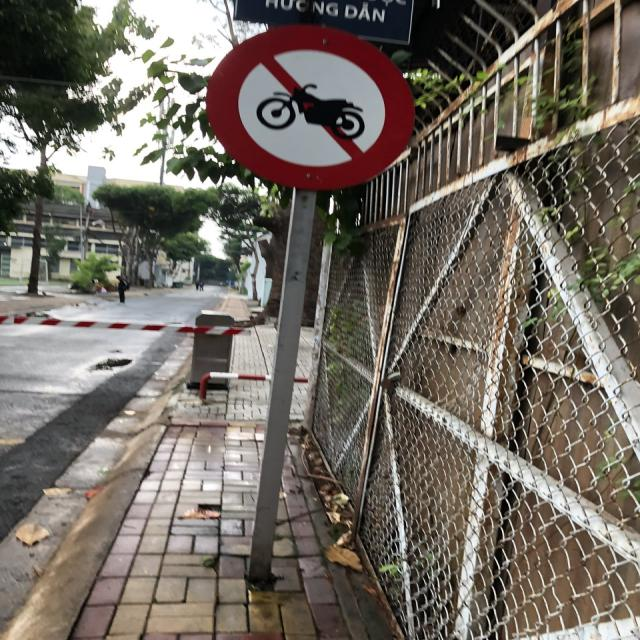Bien bao cam xe may: (200, 19, 436, 202)
